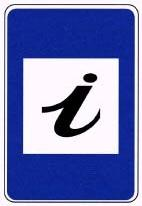posto de informacoes: (2, 0, 142, 206)
